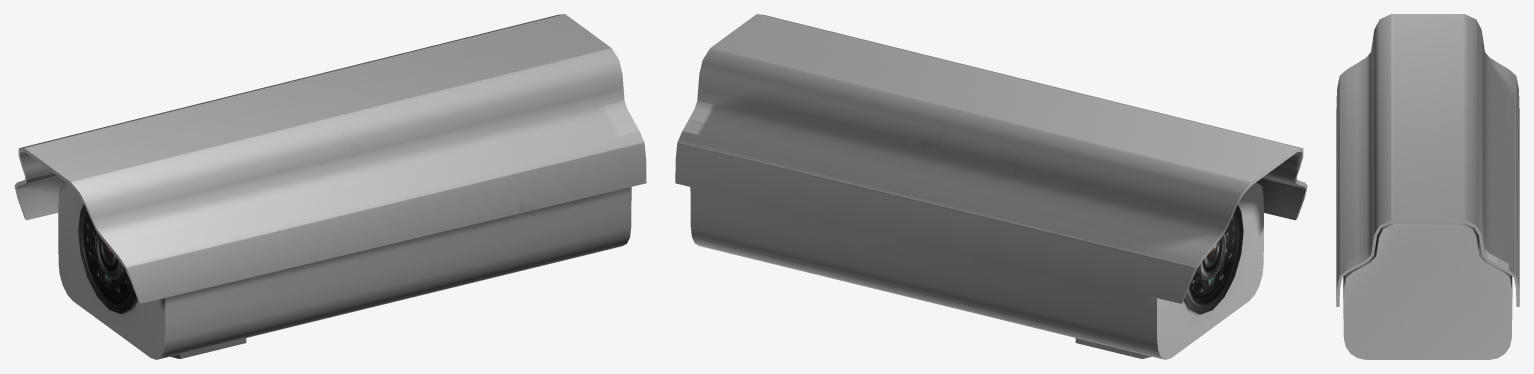
Rendered from shexiangtou.FBX.
3 views of the same model, side by side, from view 1: azimuth 30°, elevation 25°; view 2: azimuth 150°, elevation 25°; view 3: azimuth 270°, elevation 25° (orthographic). The views are drawn at different scales.
Parts seen in each view (by area): view 1: Camara_SW_Qiang021; view 2: Camara_SW_Qiang021; view 3: Camara_SW_Qiang021.
Part boxes in pixels (x1,y1,x2,y2): Camara_SW_Qiang021: (14, 14, 646, 359); Camara_SW_Qiang021: (675, 14, 1307, 359); Camara_SW_Qiang021: (1336, 14, 1519, 359).
Bounding box in the file's own units: 30.84 × 11.54 × 11.47.
